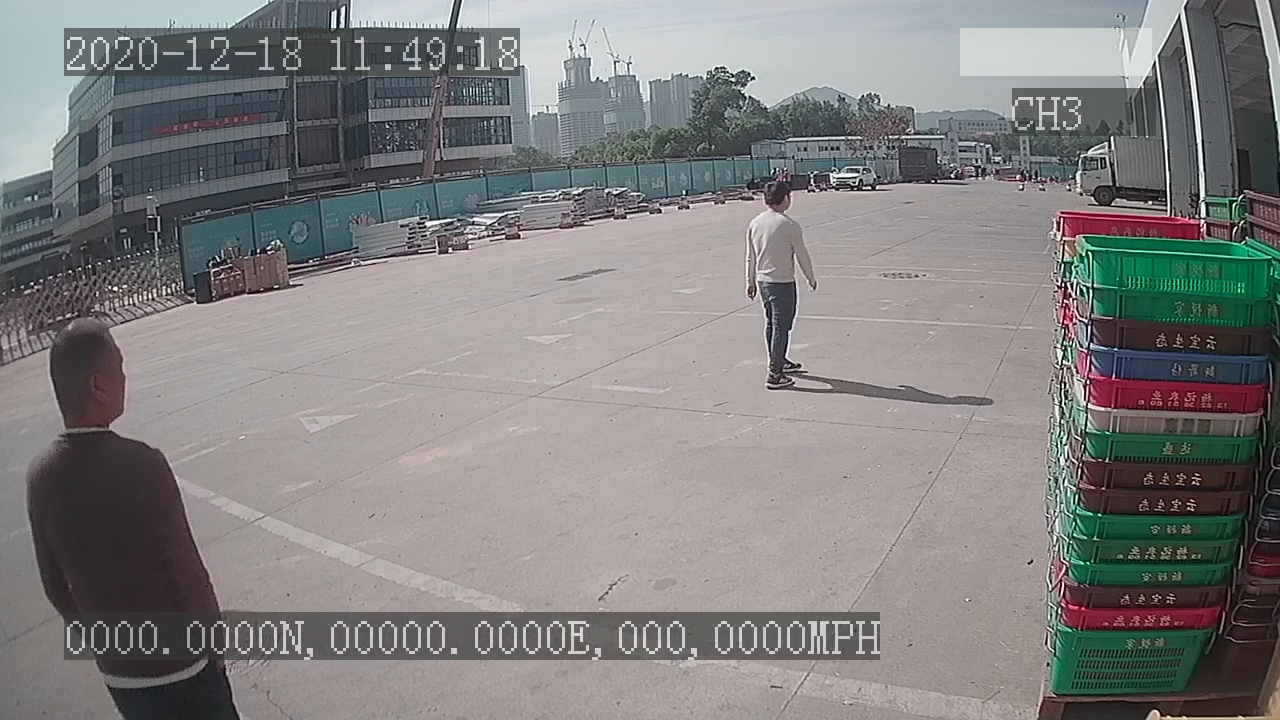person: (740, 177, 824, 395)
